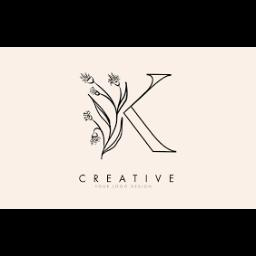k: (98, 70, 178, 160)
